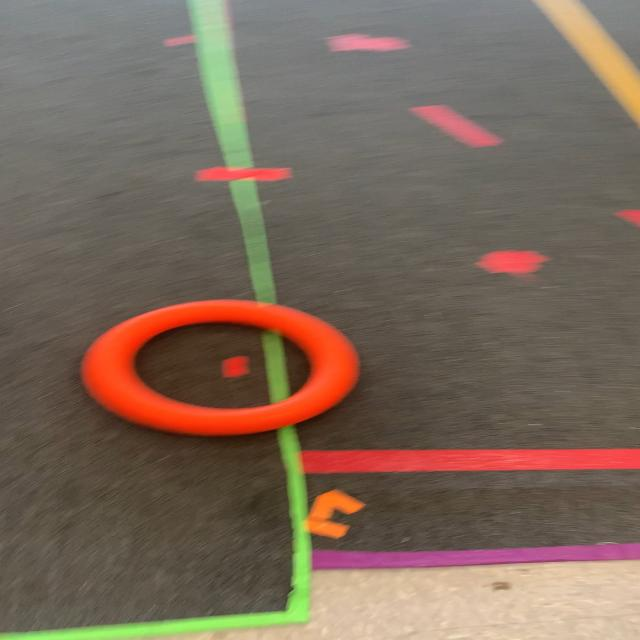notes: (87, 295, 354, 435)
